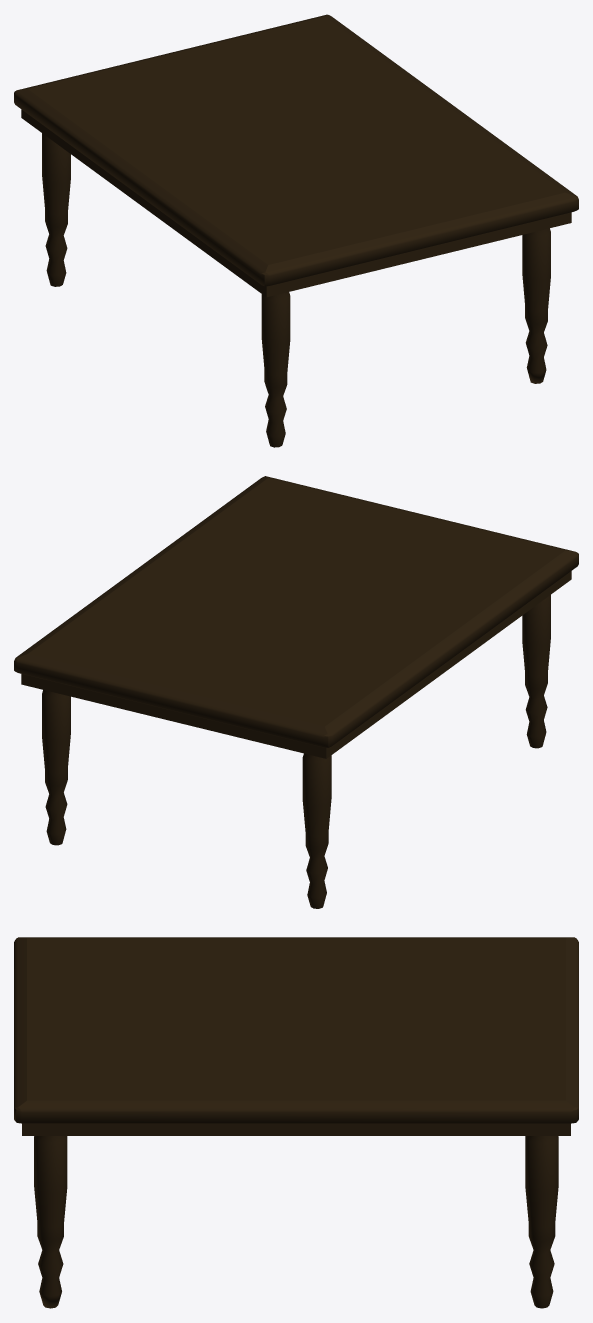
The model's file is table.fbx.
The picture shows the model from 3 angles, top to bottom: view 1: azimuth 30°, elevation 25°; view 2: azimuth 150°, elevation 25°; view 3: azimuth 270°, elevation 25°; orthographic projection. The views are drawn at different scales.
Visible parts, largest first — view 1: tabletop; view 2: tabletop; view 3: tabletop.
Boxes of the visible parts, x1,y1,x2,y2 form: tabletop: (14, 14, 578, 447); tabletop: (14, 476, 578, 908); tabletop: (14, 937, 578, 1308).
Size of the model in its own units: 51.61 by 29.81 by 71.07.
